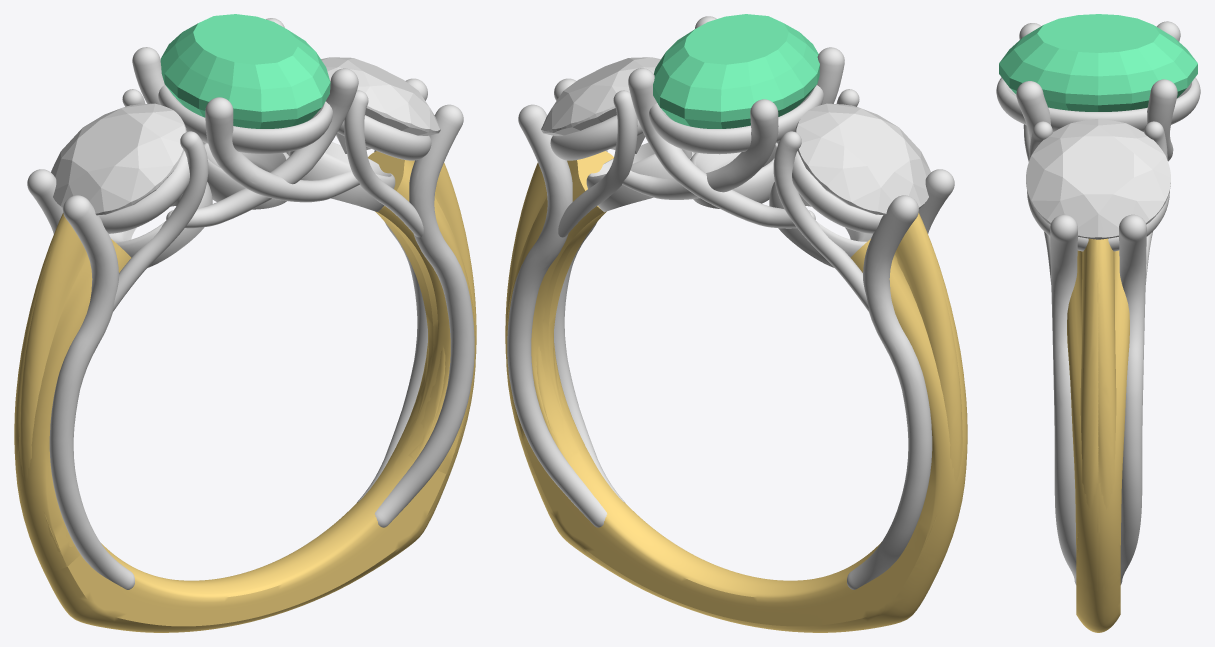
File: BlaineYGPTV3.glb
3 renders of one model, left to right at view 1: azimuth 30°, elevation 25°; view 2: azimuth 150°, elevation 25°; view 3: azimuth 270°, elevation 25°, orthographic. The views are drawn at different scales.
Parts seen in each view (by area): view 1: V3 Blaine PT for 3d model, V3 Blaine YG for 3d model, Blaine garnet for 3d model, Blaine dia for 3d model.001, Blaine dia for 3d model; view 2: V3 Blaine PT for 3d model, V3 Blaine YG for 3d model, Blaine garnet for 3d model, Blaine dia for 3d model.001, Blaine dia for 3d model; view 3: V3 Blaine PT for 3d model, V3 Blaine YG for 3d model, Blaine garnet for 3d model, Blaine dia for 3d model.
Part boxes in pixels (x1=…): V3 Blaine PT for 3d model: x1=27, y1=18, x2=474, y2=589; V3 Blaine YG for 3d model: x1=14, y1=151, x2=476, y2=632; Blaine garnet for 3d model: x1=160, y1=14, x2=330, y2=128; Blaine dia for 3d model.001: x1=51, y1=103, x2=186, y2=215; Blaine dia for 3d model: x1=321, y1=57, x2=440, y2=153; V3 Blaine PT for 3d model: x1=507, y1=16, x2=954, y2=589; V3 Blaine YG for 3d model: x1=505, y1=151, x2=967, y2=632; Blaine garnet for 3d model: x1=653, y1=14, x2=819, y2=128; Blaine dia for 3d model.001: x1=795, y1=103, x2=930, y2=215; Blaine dia for 3d model: x1=541, y1=57, x2=660, y2=153; V3 Blaine PT for 3d model: x1=996, y1=21, x2=1200, y2=584; V3 Blaine YG for 3d model: x1=1067, y1=238, x2=1129, y2=632; Blaine garnet for 3d model: x1=999, y1=14, x2=1197, y2=111; Blaine dia for 3d model: x1=1026, y1=119, x2=1170, y2=239.
Bounding box in the file's own units: 20.5 × 25.08 × 8.3.
